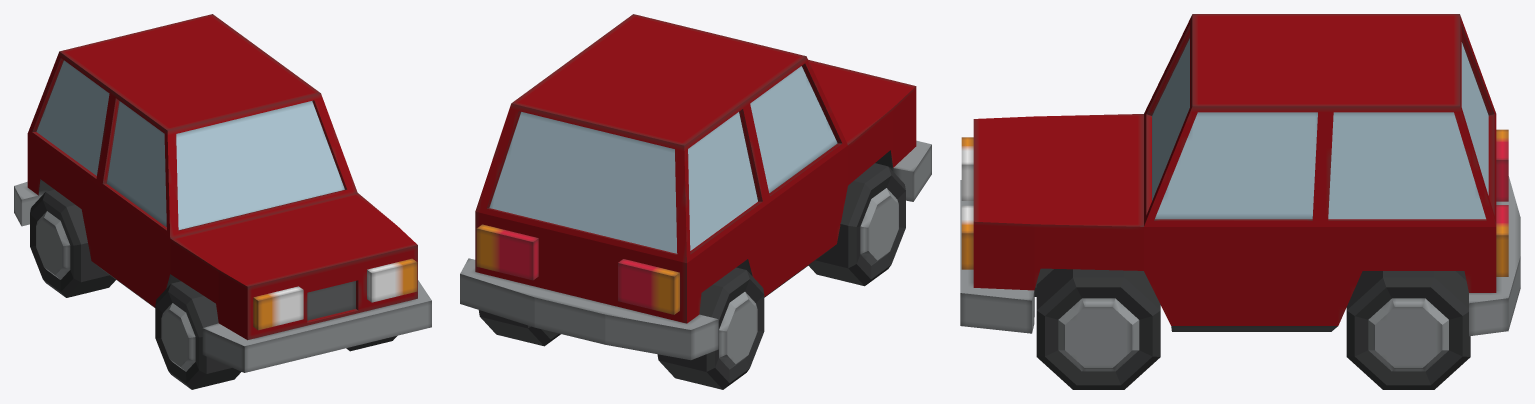
The model's file is Car 1.fbx.
3 renders of one model, left to right at view 1: azimuth 30°, elevation 25°; view 2: azimuth 150°, elevation 25°; view 3: azimuth 270°, elevation 25°, orthographic. The views are drawn at different scales.
Parts seen in each view (by area): view 1: cuboid, cylinder_3, cylinder_2; view 2: cuboid, cylinder_2, cylinder_3, cylinder_1; view 3: cuboid, cylinder, cylinder_1.
Boxes of the visible parts, <box> form: cuboid: <box>14,14,431,372</box>; cylinder_3: <box>30,189,115,297</box>; cylinder_2: <box>155,281,241,389</box>; cuboid: <box>460,14,931,360</box>; cylinder_2: <box>808,163,905,286</box>; cylinder_3: <box>657,267,764,389</box>; cylinder_1: <box>478,310,560,346</box>; cuboid: <box>960,14,1520,336</box>; cylinder: <box>1036,269,1160,389</box>; cylinder_1: <box>1346,271,1470,389</box>.
Size of the model in its own units: 162 by 153 by 288.
Materials: 1 (1 with a texture image).
